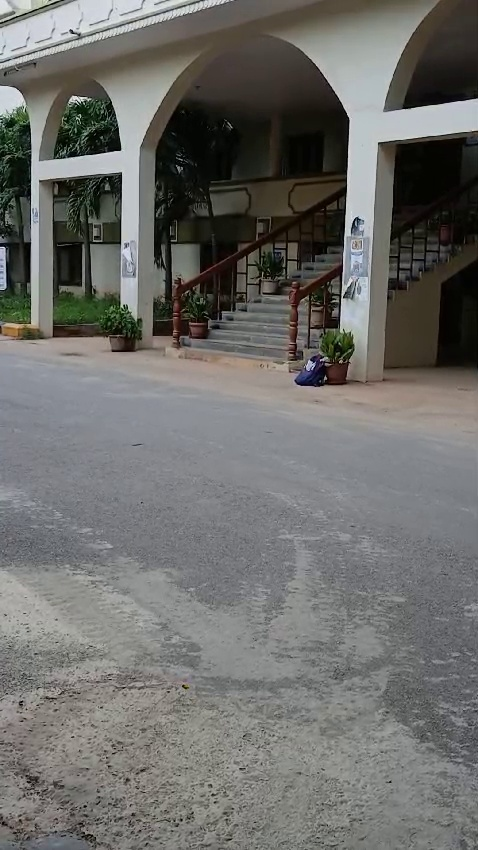bag: (296, 349, 331, 386)
